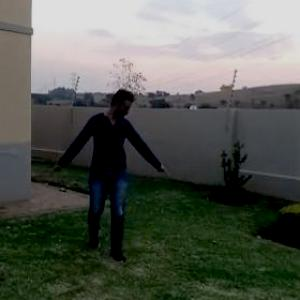land: (43, 85, 181, 270)
